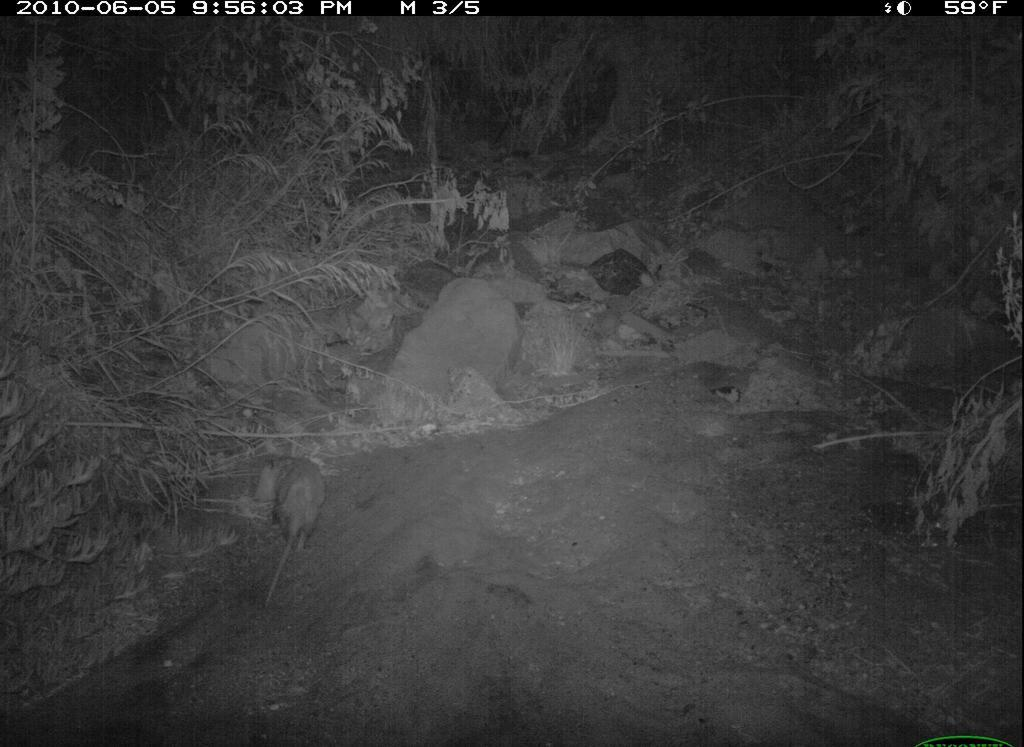opossum: (251, 439, 335, 627)
